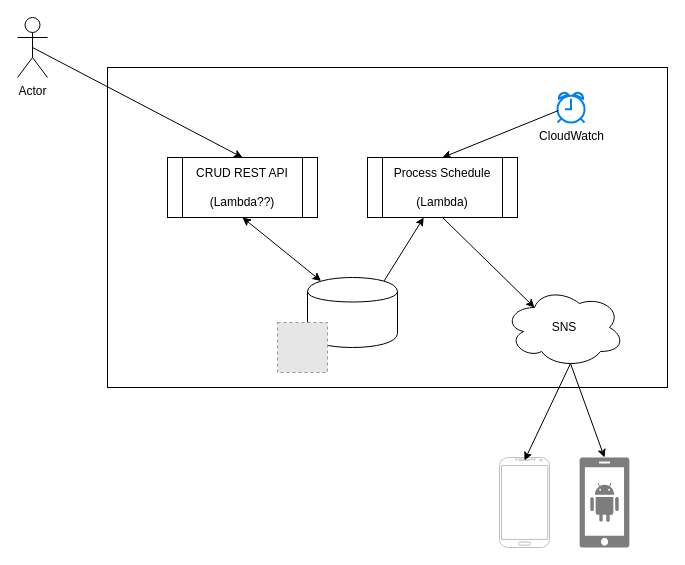
Image size: 685x565. Some labels were removed from this diagram. Grey dashed boxes stand in for pictures. The shapes that lost their labels are listed below. From the top down, each one's box as (x1, y1, x2, y2) in pixels, then its label:
(106, 66, 668, 388): AWS
(306, 276, 398, 348): DynamoDB
